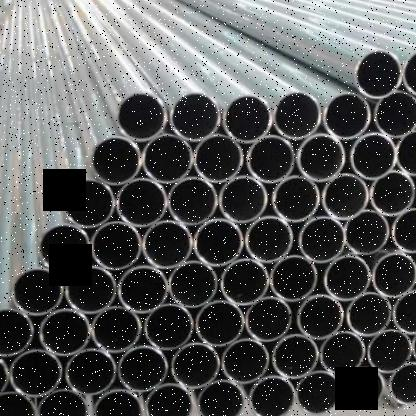pipe: (116, 178, 168, 227), (37, 224, 90, 272), (39, 308, 92, 356), (116, 92, 166, 142), (142, 134, 192, 184), (170, 92, 221, 141), (64, 179, 115, 228), (12, 266, 63, 315), (92, 136, 142, 185), (91, 221, 141, 270), (66, 265, 116, 314), (193, 134, 244, 182), (10, 350, 63, 396), (296, 134, 346, 182), (168, 177, 218, 225), (193, 218, 243, 266), (142, 220, 192, 268), (118, 265, 168, 313), (218, 176, 268, 223), (168, 260, 218, 307), (274, 92, 322, 140), (224, 95, 272, 143), (247, 136, 295, 184), (91, 306, 141, 352), (66, 349, 116, 395), (355, 50, 402, 98), (350, 133, 398, 180), (273, 176, 321, 223), (221, 259, 270, 305), (144, 304, 194, 349), (118, 346, 168, 391), (270, 255, 318, 301), (324, 256, 372, 302), (172, 342, 220, 388), (244, 217, 293, 262), (196, 301, 245, 346), (324, 93, 370, 140), (298, 217, 346, 262), (272, 334, 320, 379), (221, 339, 270, 383), (298, 294, 343, 340), (322, 174, 367, 219), (370, 170, 414, 216), (246, 297, 292, 341), (347, 292, 392, 336), (296, 371, 341, 415), (373, 91, 416, 137), (249, 374, 296, 416), (372, 253, 416, 297), (345, 211, 389, 254), (368, 329, 412, 372), (320, 332, 365, 374), (341, 367, 384, 408), (197, 380, 244, 416), (0, 308, 34, 356), (145, 383, 193, 416), (37, 389, 88, 416), (93, 389, 142, 416), (391, 208, 416, 254), (389, 363, 416, 404), (393, 290, 416, 334), (395, 128, 416, 176), (0, 391, 36, 416), (403, 46, 416, 96), (0, 353, 10, 400)
